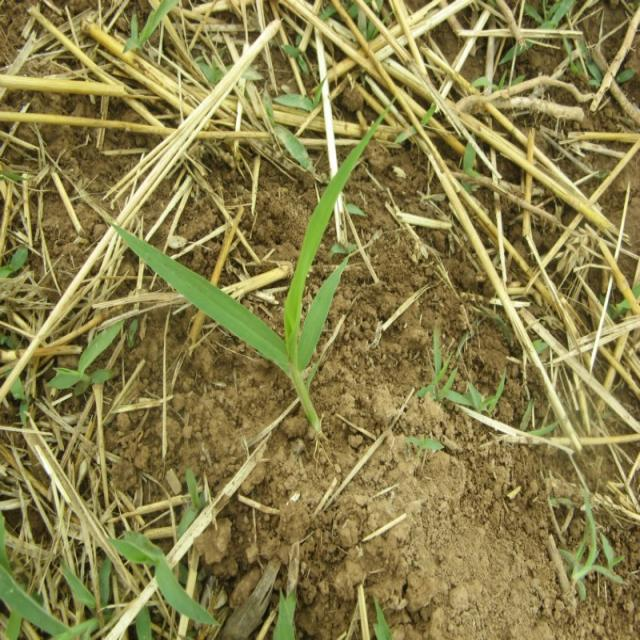bg: (114, 117, 391, 436)
